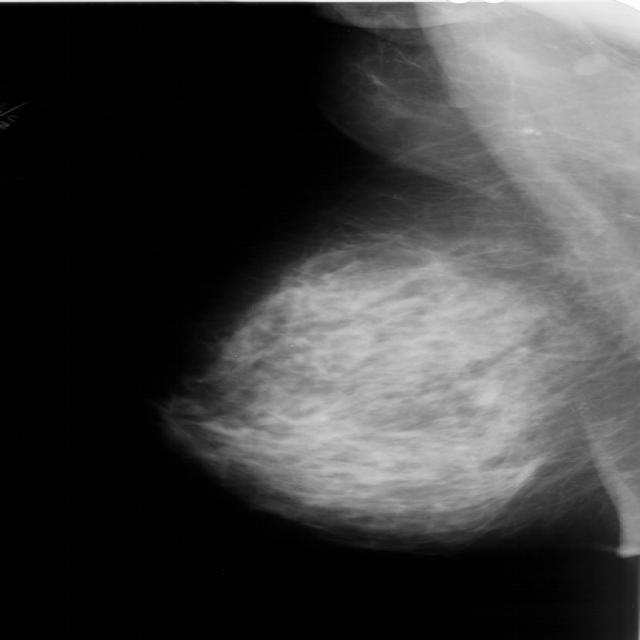tumour: (416, 255, 459, 277)
